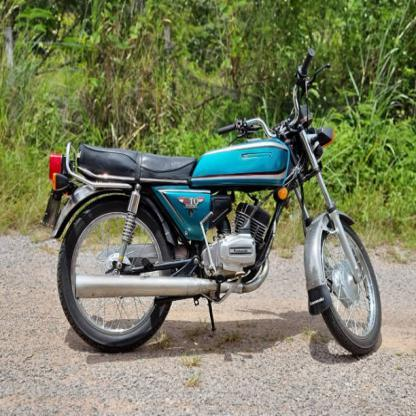Motorcycle: (38, 47, 390, 365)
